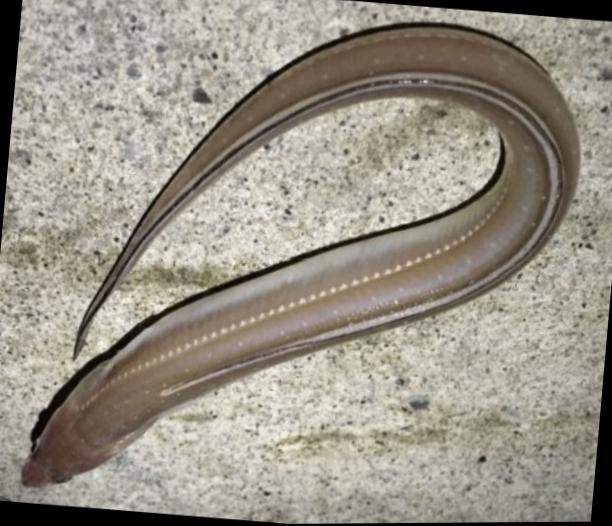fish: (21, 18, 578, 486)
